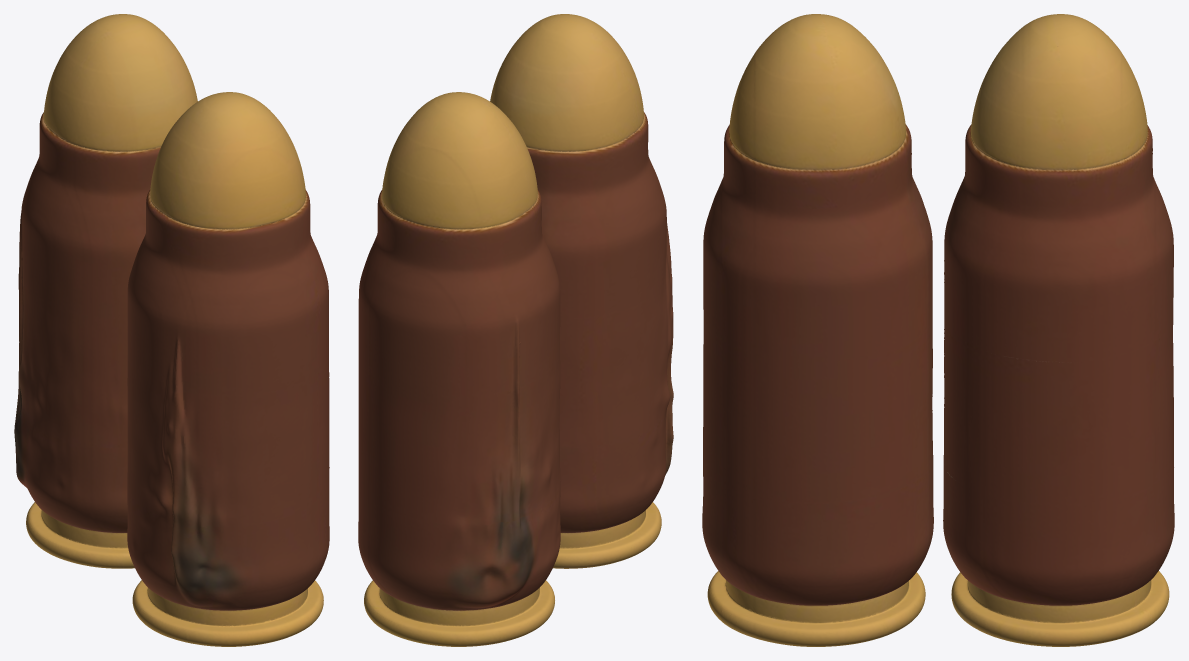
File: rapidbullet.fbx
The picture shows the model from 3 angles, left to right: view 1: azimuth 30°, elevation 25°; view 2: azimuth 150°, elevation 25°; view 3: azimuth 270°, elevation 25°; orthographic projection. The views are drawn at different scales.
Visible parts, largest first — view 1: tripo_node_421cc7a2; view 2: tripo_node_421cc7a2; view 3: tripo_node_421cc7a2.
Part boxes in pixels (bbox=[...]): tripo_node_421cc7a2: bbox=[14, 14, 329, 646]; tripo_node_421cc7a2: bbox=[358, 14, 673, 646]; tripo_node_421cc7a2: bbox=[702, 14, 1174, 646].
Size of the model in its own units: 0.355 by 1 by 0.7308.
